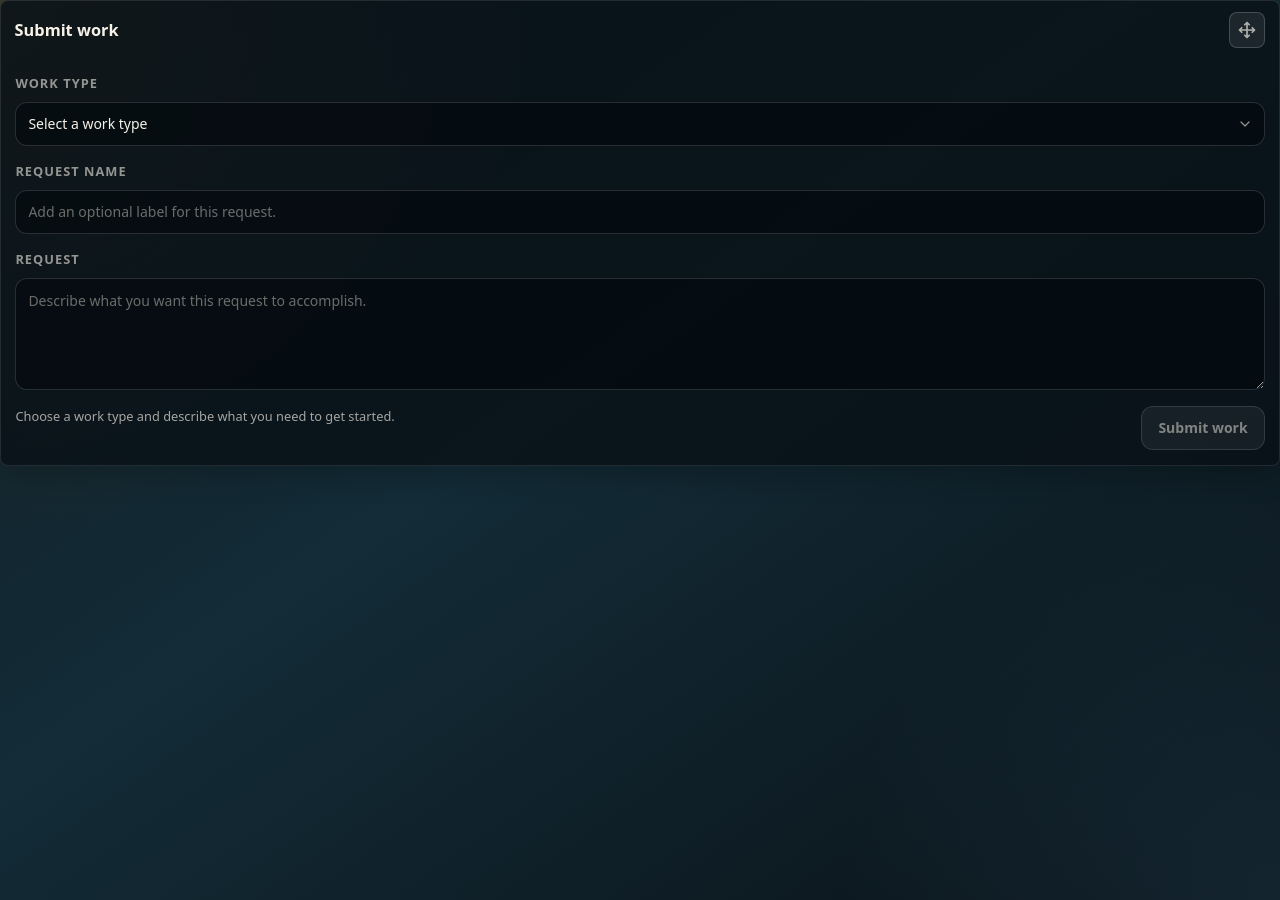
SubmitWorkWidget › shows the server error inline and preserves the draft after a failed submission
Select "story" in the dropdown labelled "Work type" at (640, 124), box [15,102,1265,146]
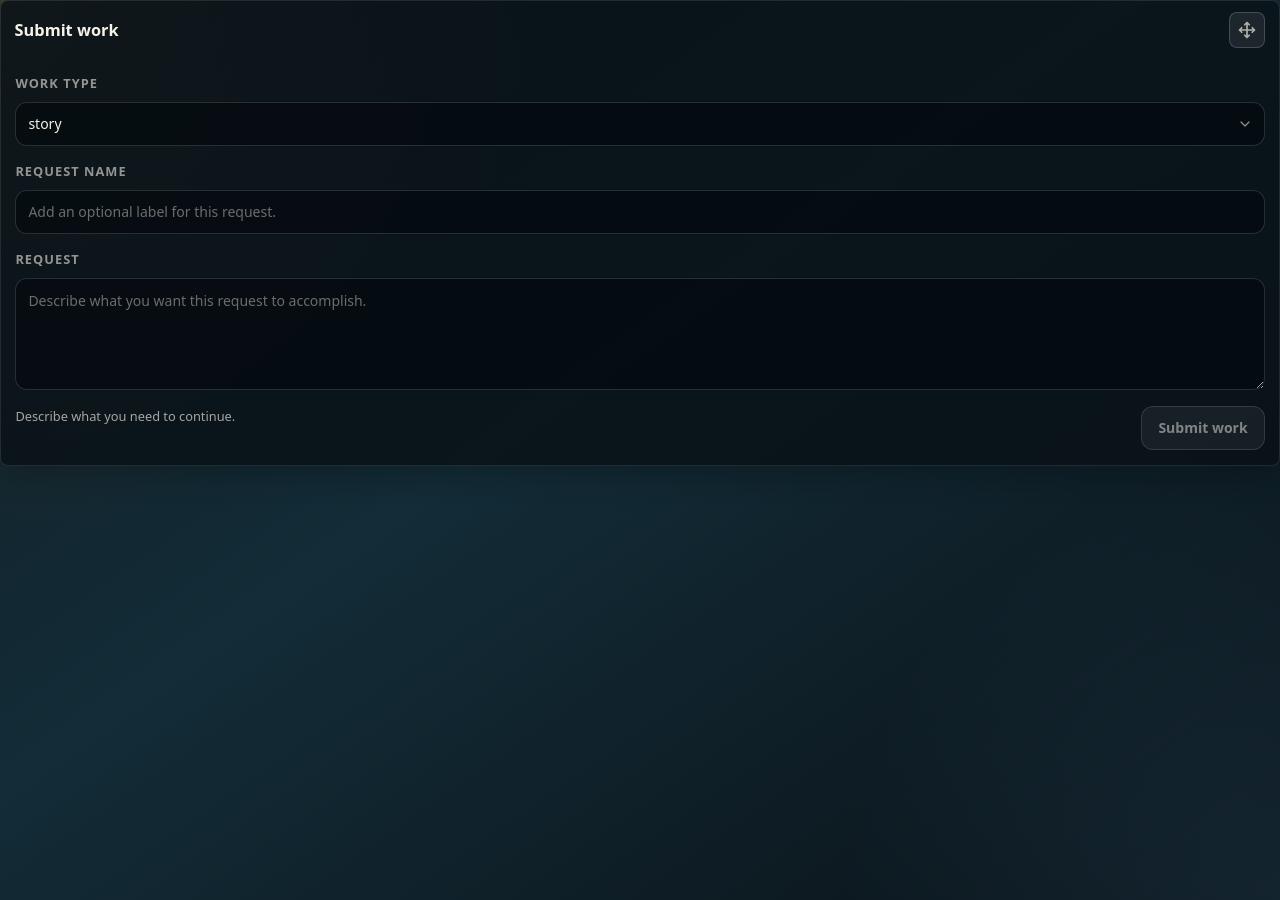
Type "Retry dashboard request" into the field labelled "Request name" at (640, 212), box [15,190,1265,234]
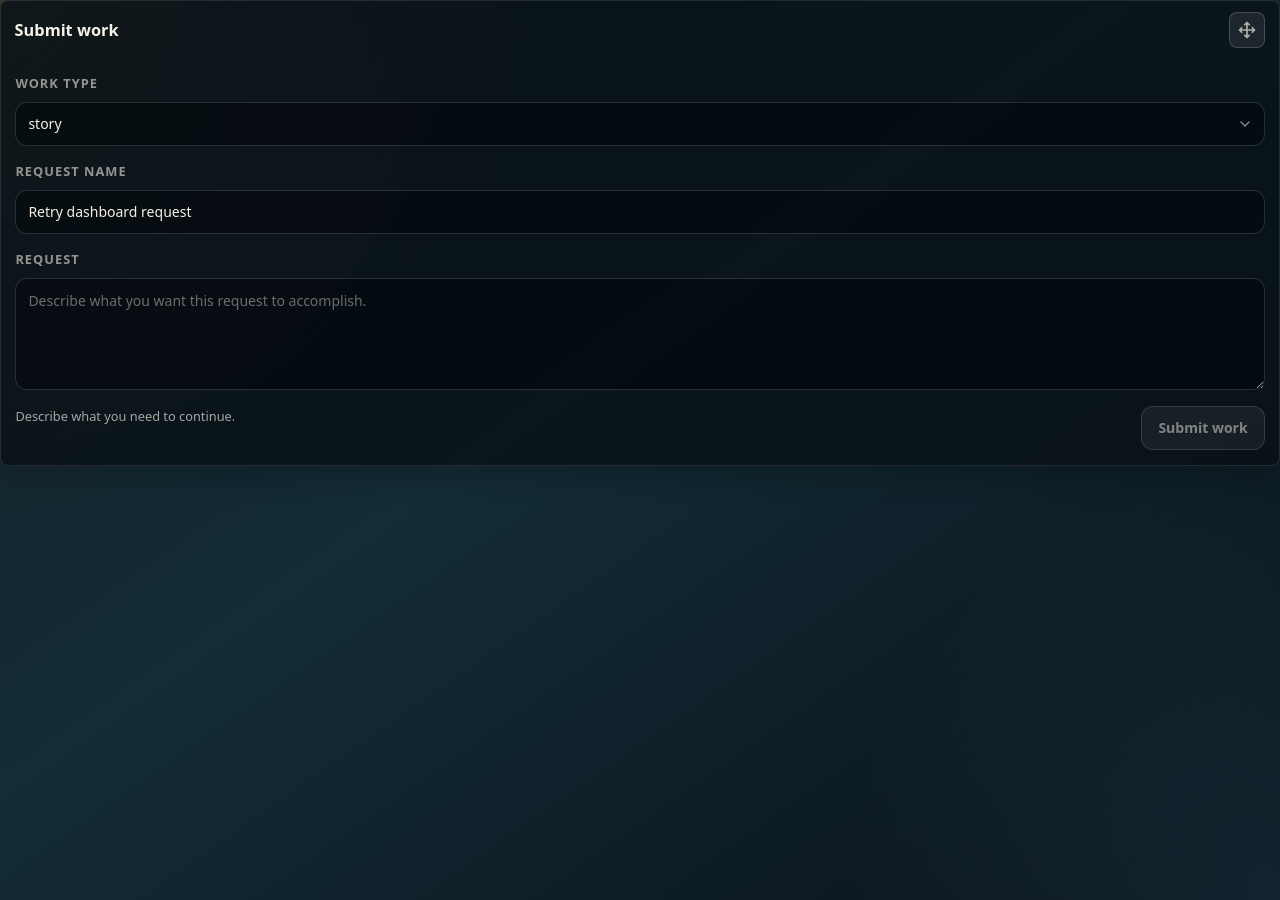
Type "Retry the broken submission." into the text box labelled "Request" at (640, 334), box [15,278,1265,390]
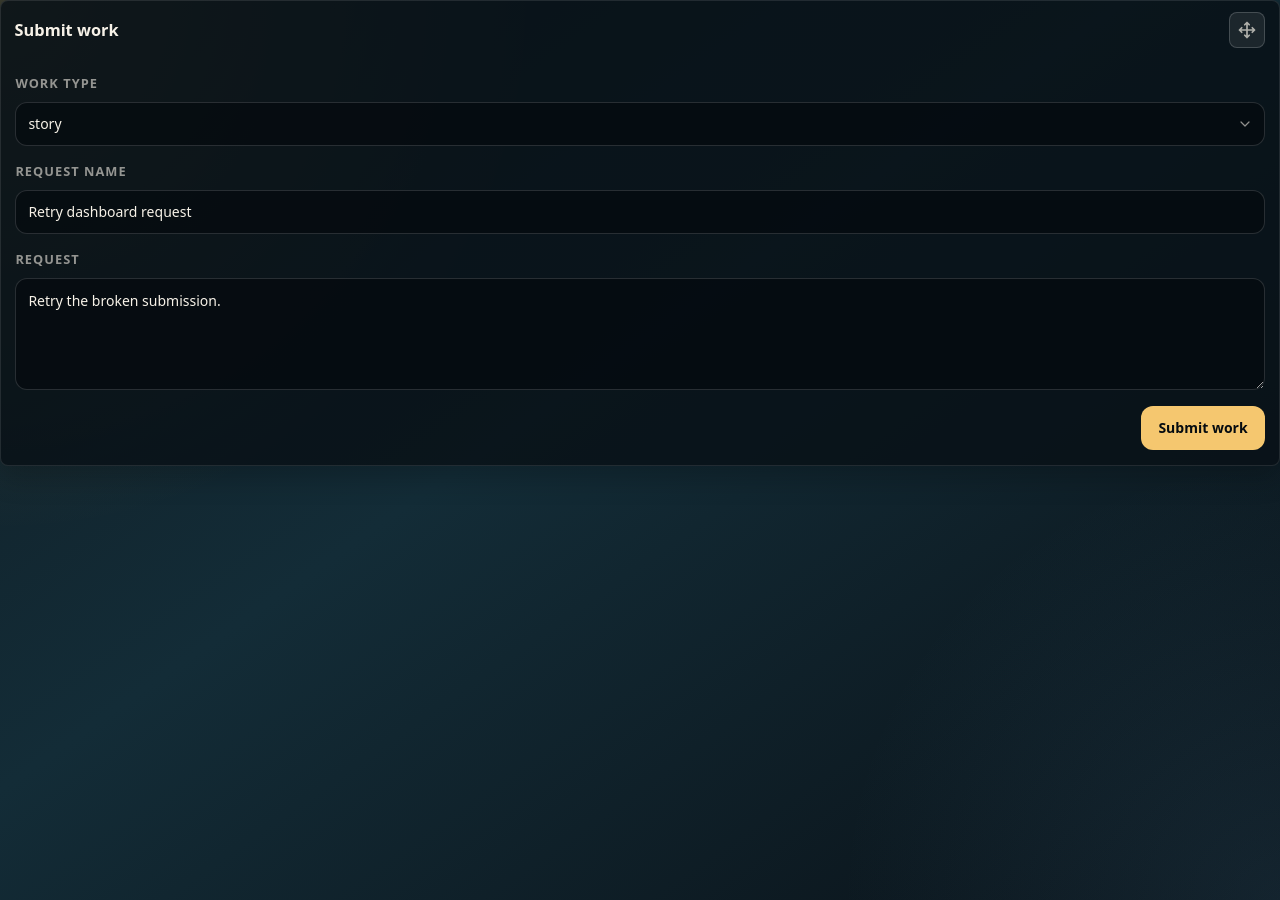
Click the button "Submit work" at (1203, 428), box [1141,406,1265,450]
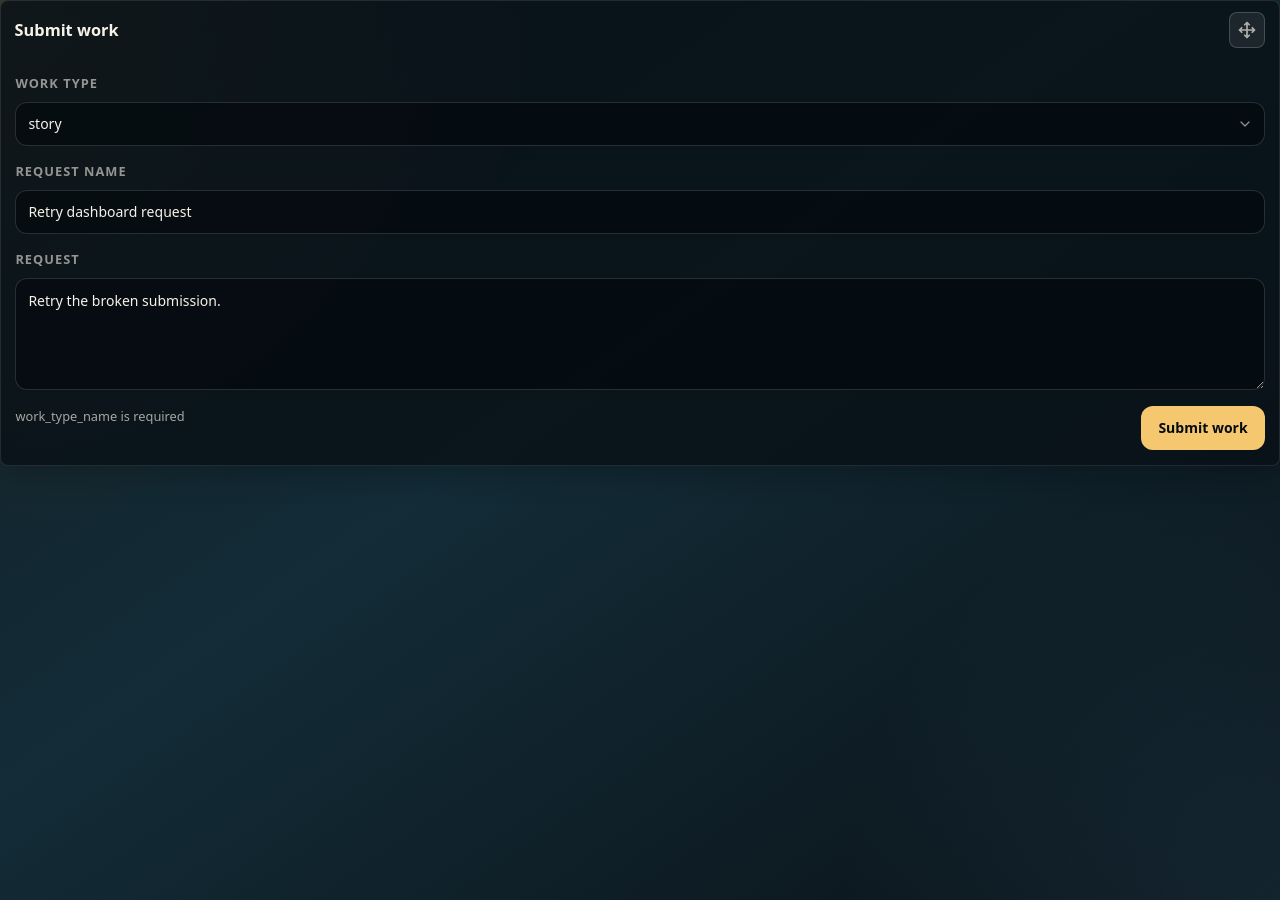
Check: the text "work_type_name is required" is shown, box [15,406,185,427]
